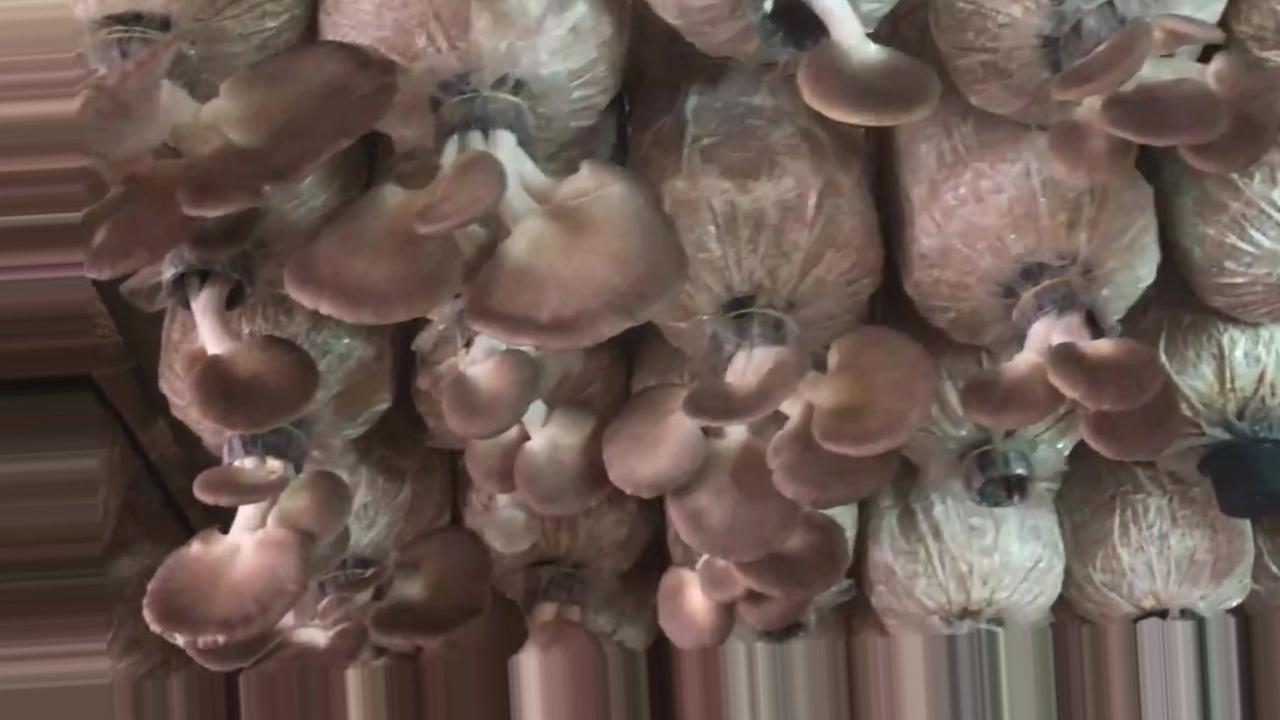nam: (291, 92, 688, 348), (606, 309, 938, 558), (76, 31, 395, 281), (243, 530, 523, 720), (140, 434, 348, 670), (1046, 1, 1280, 185), (962, 281, 1181, 458), (440, 320, 608, 514), (166, 241, 319, 433), (658, 511, 850, 651), (750, 1, 938, 124), (508, 564, 610, 720)
